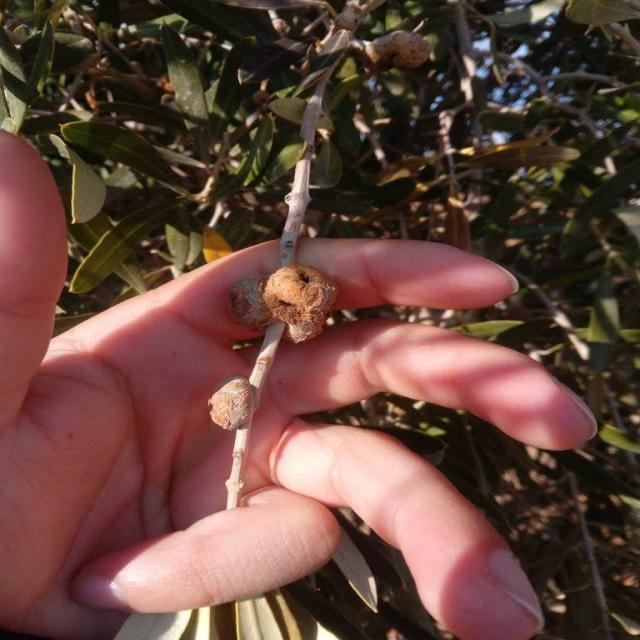Tuberculosis: (262, 264, 338, 343), (208, 375, 258, 431), (230, 276, 275, 334)
